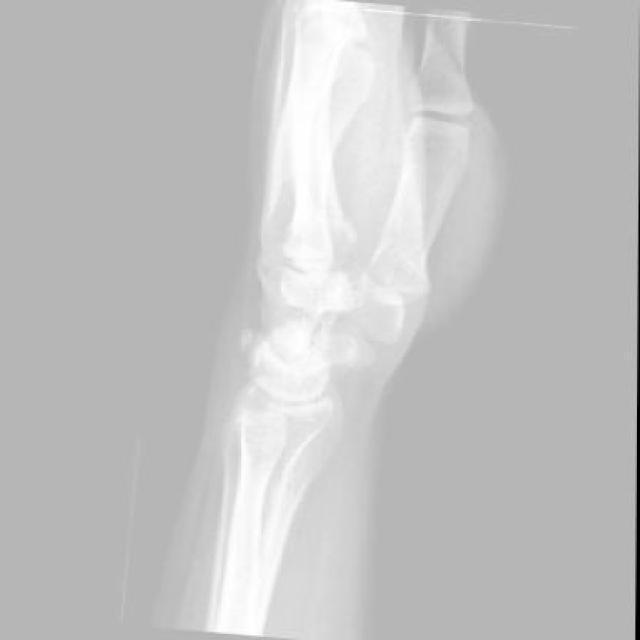Fracture: (240, 325, 271, 361)
